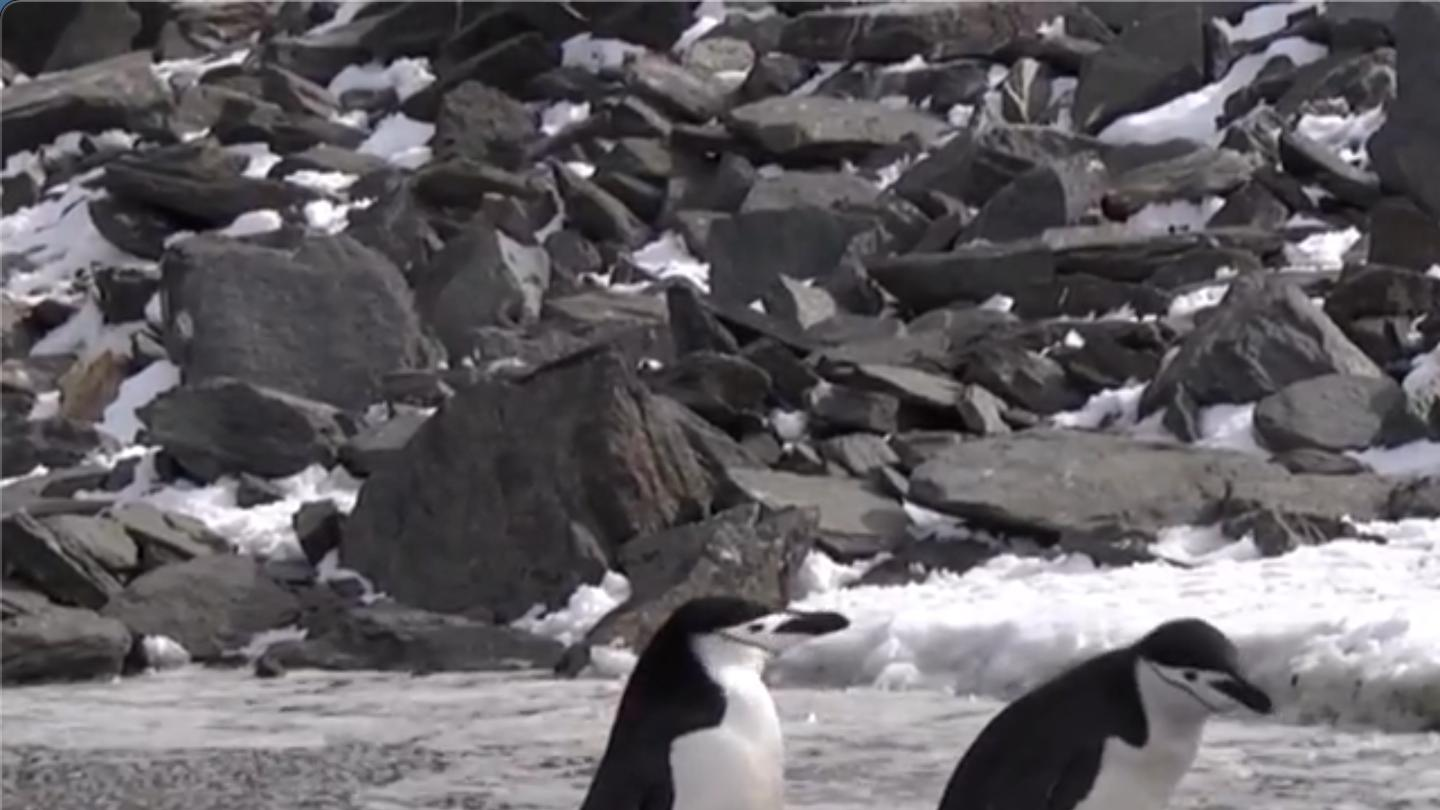Chinstrap Penguin: (900, 575, 1301, 810), (521, 579, 883, 810)
